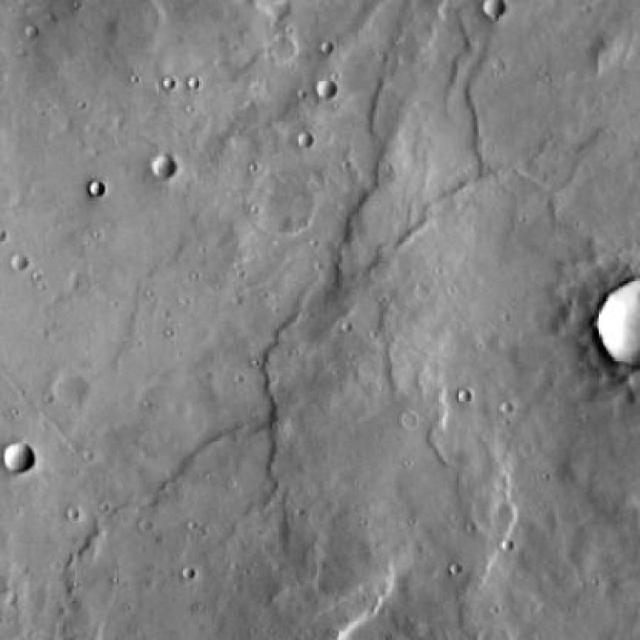crater: (580, 280, 640, 368), (2, 436, 36, 472), (42, 372, 74, 404), (150, 154, 173, 178), (315, 79, 337, 101), (480, 0, 502, 20), (92, 180, 105, 196)
